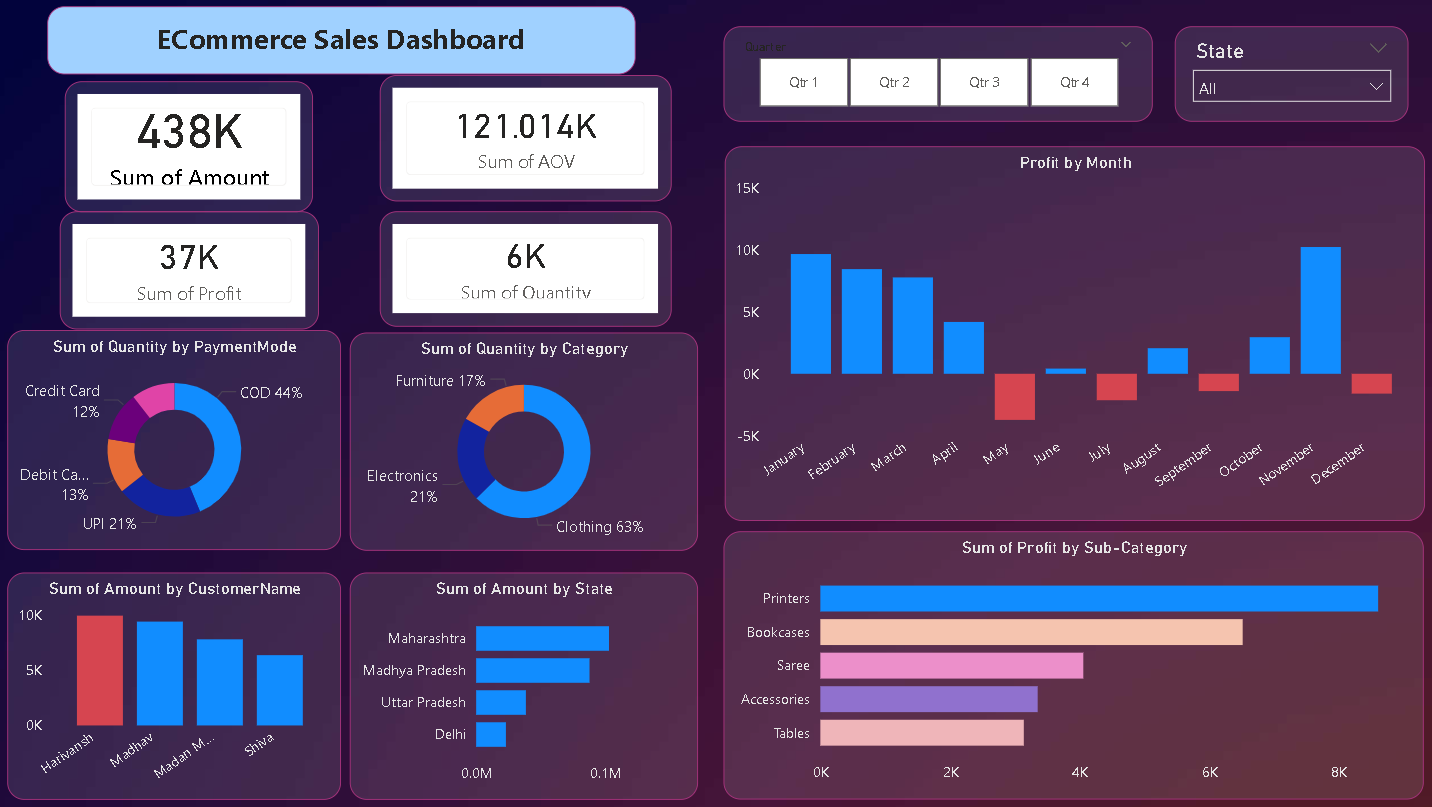

This screenshot's page, from the dashboard's own definition file:
{"tool":"powerbi","page":{"name":"Page 1","canvas":[1280,720],"ordinal":0},"visuals":[{"type":"textbox","box":[45.3,9.6,517.3,60.4],"z":0},{"type":"columnChart","title":"Profit by Month","fields":{"Y":["Sum(Details.Profit)"],"Category":["Orders.Order Date.Variation.Date Hierarchy.Month"]},"box":[640.8,133.1,616.1,329.3],"z":1},{"type":"barChart","fields":{"Category":["Details.Sub-Category"],"Y":["Sum(Details.Profit)"]},"box":[639.5,472,616.1,236],"z":2},{"type":"donutChart","fields":{"Category":["Details.Category"],"Y":["Sum(Details.Quantity)"]},"box":[311.5,296.4,306,192.1],"z":3},{"type":"donutChart","fields":{"Y":["Sum(Details.Quantity)"],"Category":["Details.PaymentMode"]},"box":[9.6,295,293.7,193.5],"z":4},{"type":"cardVisual","fields":{"Data":["Sum(Details.Amount)"]},"box":[60.4,75.5,218.2,115.3],"z":5},{"type":"cardVisual","fields":{"Data":["Sum(Details.Quantity)"]},"box":[337.6,190.7,256.6,101.5],"z":6},{"type":"cardVisual","fields":{"Data":["Sum(Details.Profit)"]},"box":[56.3,190.7,227.8,104.3],"z":7},{"type":"cardVisual","fields":{"Data":["Sum(Details.AOV)"]},"box":[337.6,70,256.6,111.1],"z":8},{"type":"barChart","fields":{"Category":["Orders.State"],"Y":["Sum(Details.Amount)"]},"box":[311.5,507.7,306,200.3],"z":9},{"type":"columnChart","fields":{"Y":["Sum(Details.Amount)"],"Category":["Orders.CustomerName"]},"box":[9.6,507.7,293.7,200.3],"z":10},{"type":"slicer","fields":{"Values":["Orders.Order Date.Variation.Date Hierarchy.Quarter"]},"box":[639.5,27.4,377.4,83.7],"z":11},{"type":"slicer","fields":{"Values":["Orders.State"]},"box":[1037.4,27.4,205.8,83.7],"z":12}]}

Visuals, with their boxes in screenshot pixels (x1, y1, x2, y2), scaled from the page's 1280x720 canvas onto the 1432x807 screenshot:
textbox: [left=51, top=11, right=629, bottom=78]
"Profit by Month" columnChart: [left=717, top=149, right=1406, bottom=518]
barChart - Details.Sub-Category x Sum(Details.Profit): [left=715, top=529, right=1405, bottom=794]
donutChart - Details.Category x Sum(Details.Quantity): [left=348, top=332, right=691, bottom=548]
donutChart - Sum(Details.Quantity) x Details.PaymentMode: [left=11, top=331, right=339, bottom=548]
cardVisual - Sum(Details.Amount): [left=68, top=85, right=312, bottom=214]
cardVisual - Sum(Details.Quantity): [left=378, top=214, right=665, bottom=328]
cardVisual - Sum(Details.Profit): [left=63, top=214, right=318, bottom=331]
cardVisual - Sum(Details.AOV): [left=378, top=78, right=665, bottom=203]
barChart - Orders.State x Sum(Details.Amount): [left=348, top=569, right=691, bottom=794]
columnChart - Sum(Details.Amount) x Orders.CustomerName: [left=11, top=569, right=339, bottom=794]
slicer - Orders.Order Date.Variation.Date Hierarchy.Quarter: [left=715, top=31, right=1138, bottom=125]
slicer - Orders.State: [left=1161, top=31, right=1391, bottom=125]
